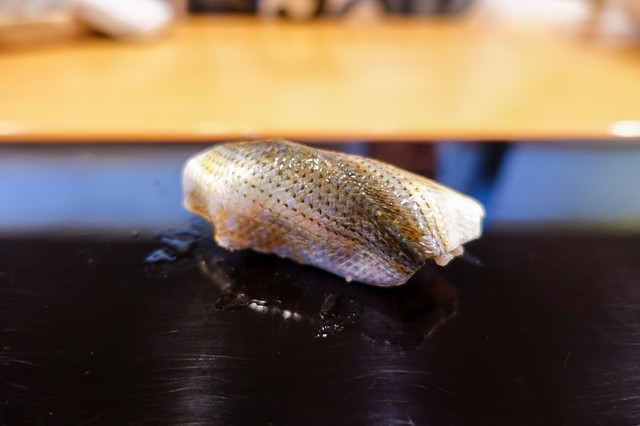spotted-shad: (181, 137, 486, 290)
